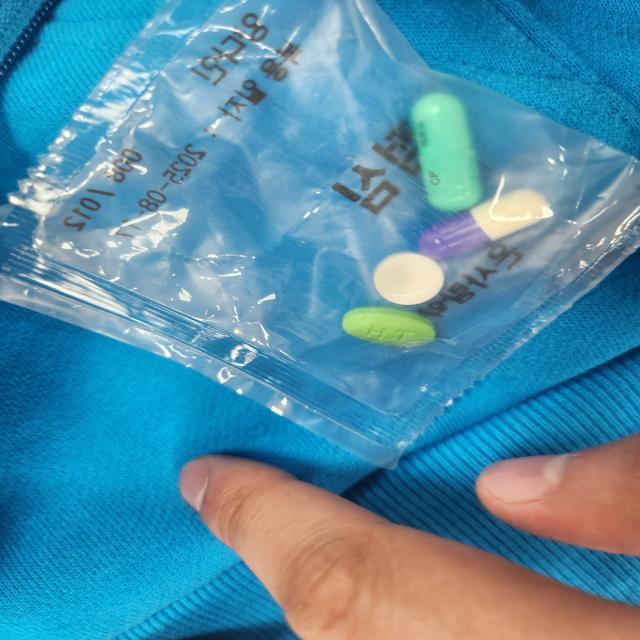러키펜정: (373, 253, 451, 309)
씨엠지세파클러캡슐: (419, 190, 551, 261)
에르도캡슐: (409, 92, 486, 214)
휴티렌정: (341, 305, 439, 352)
